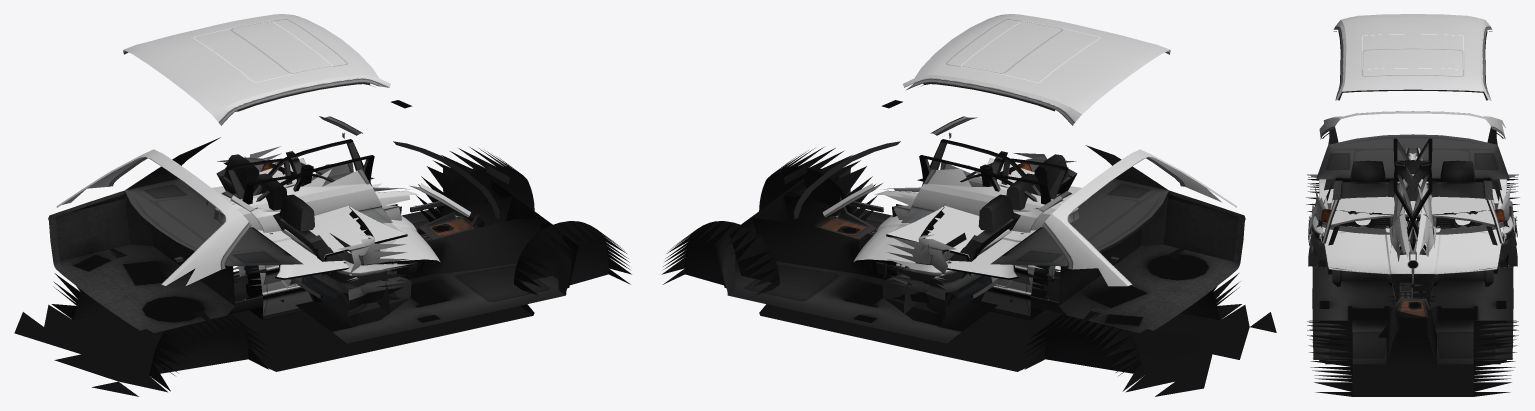
3 renders of one model, left to right at view 1: azimuth 30°, elevation 25°; view 2: azimuth 150°, elevation 25°; view 3: azimuth 270°, elevation 25°, orthographic. The views are drawn at different scales.
Parts seen in each view (by area): view 1: e34sys_cabin-carpet_d5c646cb, e34body_shell_af3455d4, e34body_roof_1b7e4b5b, e34body_sunroof_cut, e34sys_rear-seat-cushion_6b4c83fb, e34body_rear-quarter-right_a0b11fea, e34body_hood_90bfd0b4, e34body_rear-bumper_6c04aad1, e34body_trunk_d5f193bc, e34body_front-door-right_538db514, e34body_front-bumper_5e657711, e34body_front-fender-right_991ca033 (+6 smaller); view 2: e34sys_cabin-carpet_d5c646cb, e34body_shell_af3455d4, e34body_roof_1b7e4b5b, e34body_sunroof_cut, e34sys_rear-seat-cushion_6b4c83fb, e34body_rear-quarter-left_91dc4102, e34body_hood_90bfd0b4, e34body_trunk_d5f193bc, e34body_rear-bumper_6c04aad1, e34body_front-door-left_12d46a69, e34body_front-bumper_5e657711, e34body_front-fender-left_6c55ec87 (+5 smaller); view 3: e34sys_cabin-carpet_d5c646cb, e34body_shell_af3455d4, e34body_roof_1b7e4b5b, e34body_hood_90bfd0b4, e34sys_rear-seat-cushion_6b4c83fb, e34body_sunroof_cut, e34body_trunk_d5f193bc, e34body_front-bumper_5e657711, e34sys_dashboard_a31885b6, e34body_rear-quarter-left_91dc4102, e34body_front-fender-right_991ca033, e34body_front-fender-left_6c55ec87 (+9 smaller).
Boxes of the visible parts, left/top/right/bottom form: e34sys_cabin-carpet_d5c646cb: left=48, top=100, right=578, bottom=343; e34body_shell_af3455d4: left=14, top=116, right=631, bottom=396; e34body_roof_1b7e4b5b: left=123, top=14, right=390, bottom=125; e34body_sunroof_cut: left=194, top=21, right=332, bottom=82; e34sys_rear-seat-cushion_6b4c83fb: left=216, top=154, right=411, bottom=326; e34body_rear-quarter-right_a0b11fea: left=214, top=169, right=417, bottom=297; e34body_hood_90bfd0b4: left=212, top=186, right=440, bottom=279; e34body_rear-bumper_6c04aad1: left=244, top=146, right=409, bottom=303; e34body_trunk_d5f193bc: left=234, top=158, right=407, bottom=298; e34body_front-door-right_538db514: left=225, top=158, right=397, bottom=319; e34body_front-bumper_5e657711: left=217, top=157, right=387, bottom=316; e34body_front-fender-right_991ca033: left=220, top=190, right=418, bottom=313; e34sys_cabin-carpet_d5c646cb: left=715, top=100, right=1245, bottom=343; e34body_shell_af3455d4: left=662, top=116, right=1276, bottom=396; e34body_roof_1b7e4b5b: left=903, top=14, right=1170, bottom=125; e34body_sunroof_cut: left=961, top=21, right=1099, bottom=82; e34sys_rear-seat-cushion_6b4c83fb: left=882, top=154, right=1077, bottom=326; e34body_rear-quarter-left_91dc4102: left=876, top=169, right=1079, bottom=294; e34body_hood_90bfd0b4: left=853, top=186, right=1081, bottom=279; e34body_trunk_d5f193bc: left=886, top=158, right=1059, bottom=298; e34body_rear-bumper_6c04aad1: left=885, top=153, right=1046, bottom=303; e34body_front-door-left_12d46a69: left=895, top=158, right=1068, bottom=320; e34body_front-bumper_5e657711: left=906, top=157, right=1076, bottom=316; e34body_front-fender-left_6c55ec87: left=875, top=190, right=1072, bottom=313; e34sys_cabin-carpet_d5c646cb: left=1312, top=127, right=1513, bottom=365; e34body_shell_af3455d4: left=1306, top=111, right=1519, bottom=396; e34body_roof_1b7e4b5b: left=1333, top=14, right=1492, bottom=100; e34body_hood_90bfd0b4: left=1319, top=179, right=1506, bottom=274; e34sys_rear-seat-cushion_6b4c83fb: left=1332, top=160, right=1493, bottom=286; e34body_sunroof_cut: left=1362, top=34, right=1463, bottom=69; e34body_trunk_d5f193bc: left=1330, top=196, right=1495, bottom=226; e34body_front-bumper_5e657711: left=1309, top=186, right=1516, bottom=247; e34sys_dashboard_a31885b6: left=1308, top=181, right=1517, bottom=274; e34body_rear-quarter-left_91dc4102: left=1391, top=153, right=1435, bottom=306; e34body_front-fender-right_991ca033: left=1389, top=143, right=1436, bottom=301; e34body_front-fender-left_6c55ec87: left=1389, top=143, right=1436, bottom=301.
Bounding box in the file's own units: 3.96 × 2.02 × 1.74.
Materials: 3 (3 with a texture image).
